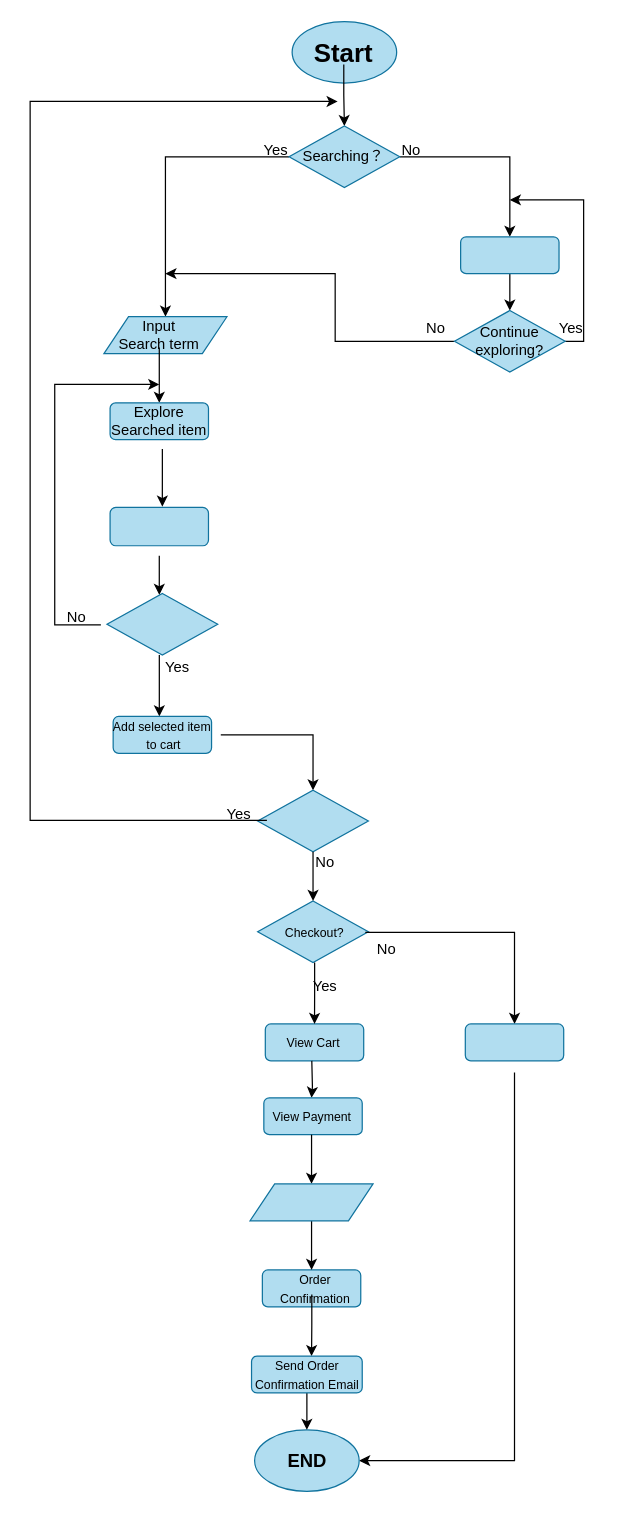
This 617x1513 diagram has some shape labels left out. The shapes that lost their labels are listed below. From the top down, each one's centre as x and y in pixels, then its label:
pixel 509 255: Explore
pixel 158 526: Open a product's detail webpage
pixel 162 623: "Add to cart?"
pixel 312 820: Continue Shopping?
pixel 514 1042: Close shopping webpage
pixel 311 1202: Input Payment Infomation
